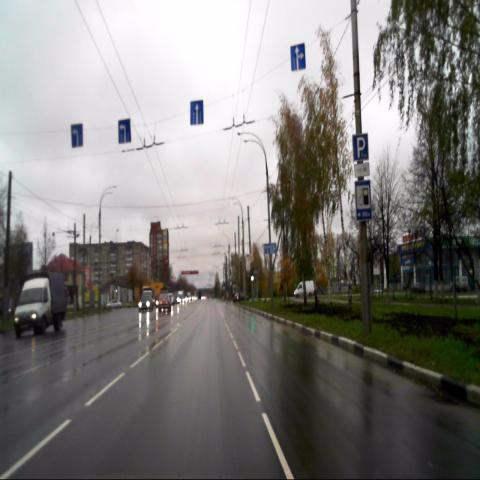8_8: (354, 163, 370, 177)
